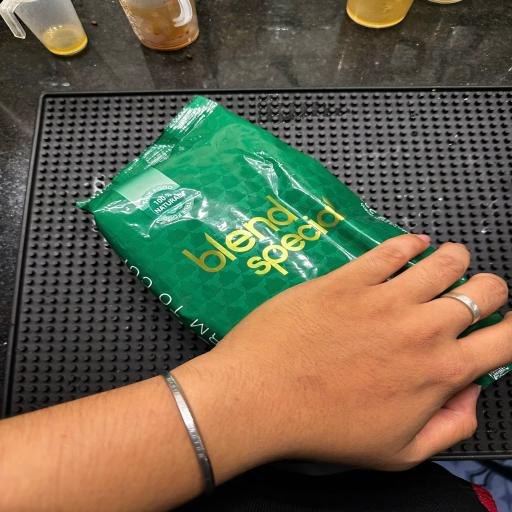cafe_xay: (77, 96, 407, 346)
